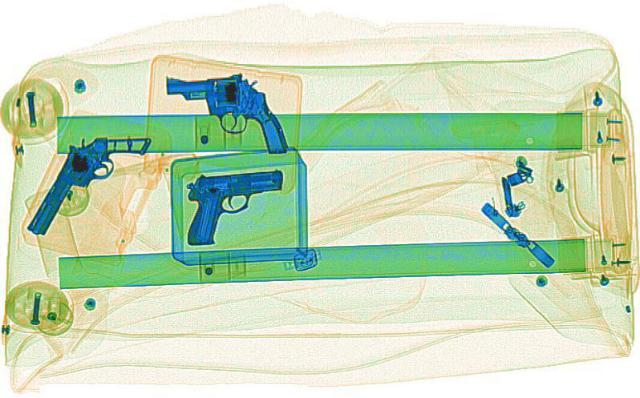Gun: (13, 122, 151, 242), (158, 72, 292, 153), (173, 165, 285, 245)
